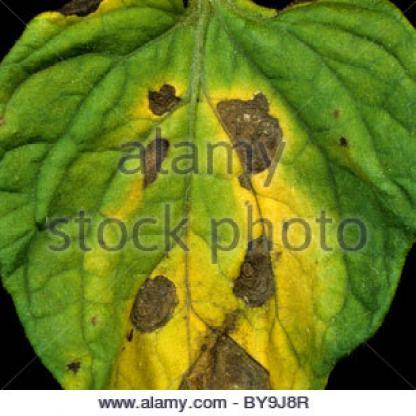Potato leaf late blight: (2, 1, 414, 388)
